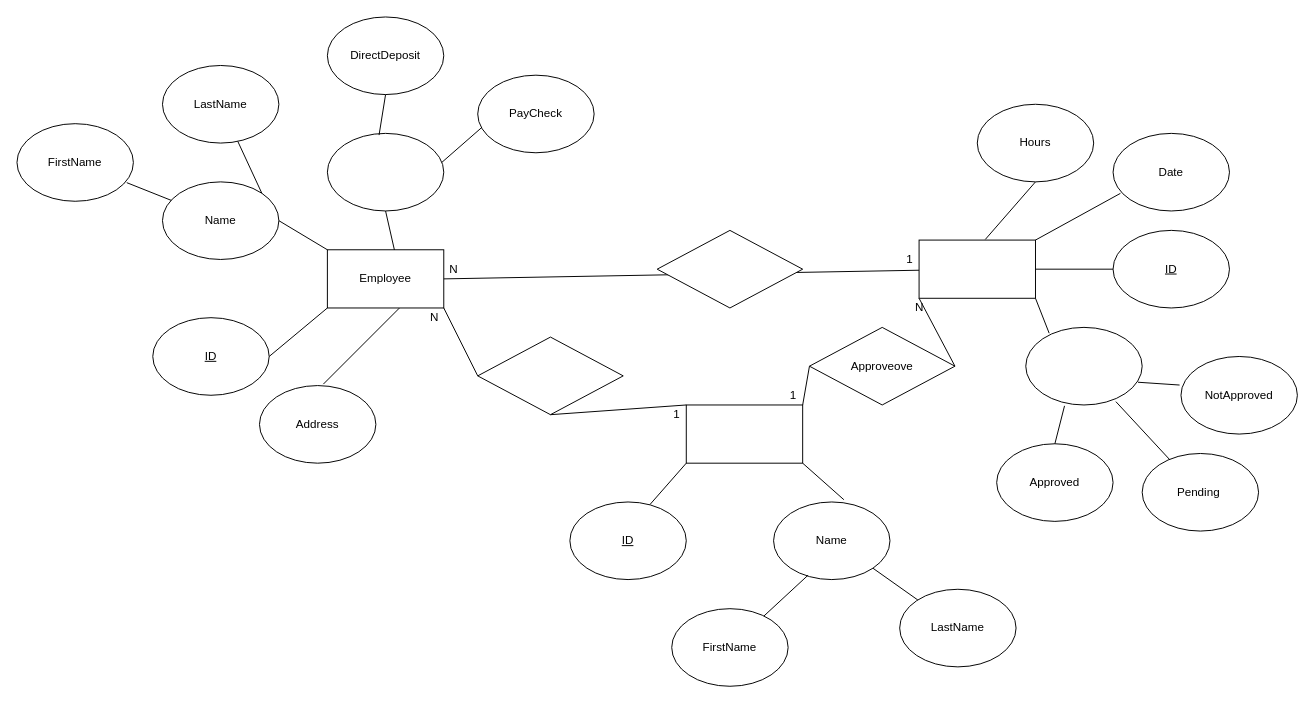
Image size: 1314x703. Some labels were removed from this diagram. The shapes that lost their labels are listed below. From the top down, each one's centre as x and y in pixels, then its label:
At point (385, 171): "Payment".
At point (729, 268): "Submit".
At point (976, 268): "Timecard".
At point (550, 375): "Manages".
At point (1083, 365): "Status".
At point (744, 433): "Manager".
